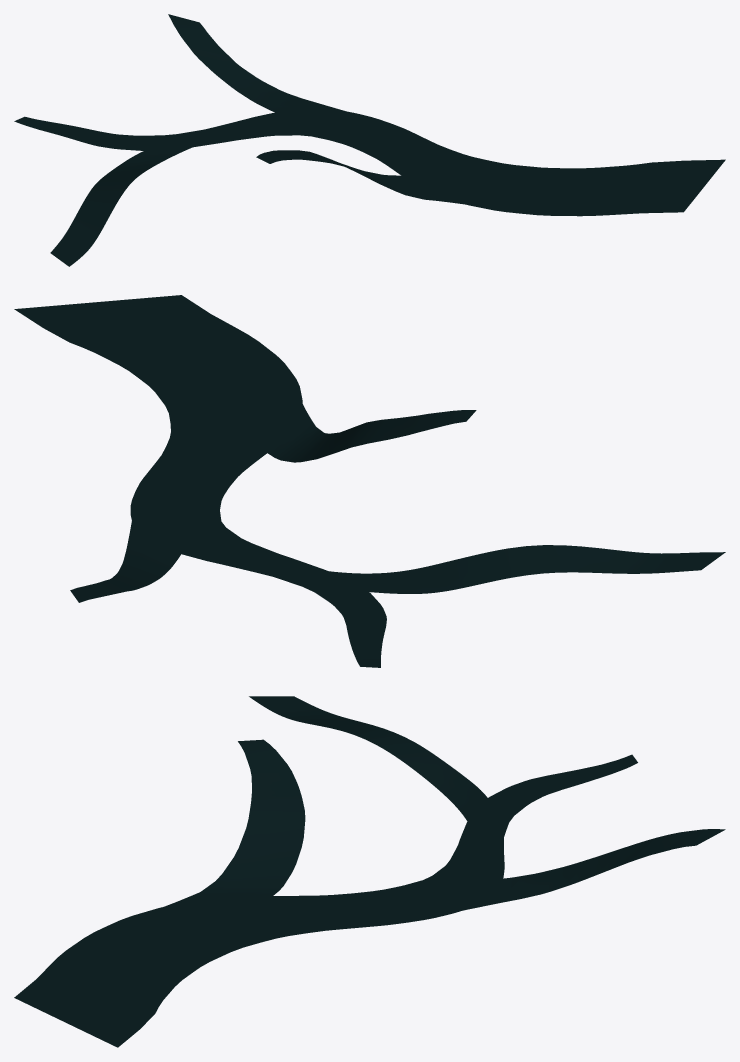
The model's file is map_roads.fbx.
The picture shows the model from 3 angles, top to bottom: view 1: azimuth 30°, elevation 25°; view 2: azimuth 150°, elevation 25°; view 3: azimuth 270°, elevation 25°; orthographic projection. The views are drawn at different scales.
Visible parts, largest first — view 1: map_road_main, map_road_out, map_road_right, map_road_left; view 2: map_road_main, map_road_out, map_road_left, map_road_right; view 3: map_road_main, map_road_left, map_road_out, map_road_right.
Boxes of the visible parts, <box> form: map_road_main: <box>14,108,725,216</box>; map_road_out: <box>50,147,192,266</box>; map_road_right: <box>168,14,367,125</box>; map_road_left: <box>256,150,471,205</box>; map_road_main: <box>14,295,386,667</box>; map_road_out: <box>329,545,725,593</box>; map_road_left: <box>267,400,476,462</box>; map_road_right: <box>70,506,193,602</box>; map_road_main: <box>14,754,637,1047</box>; map_road_left: <box>157,739,305,909</box>; map_road_out: <box>249,696,487,820</box>; map_road_right: <box>435,829,725,916</box>.
Size of the model in its own units: 388 by 35.76 by 331.
